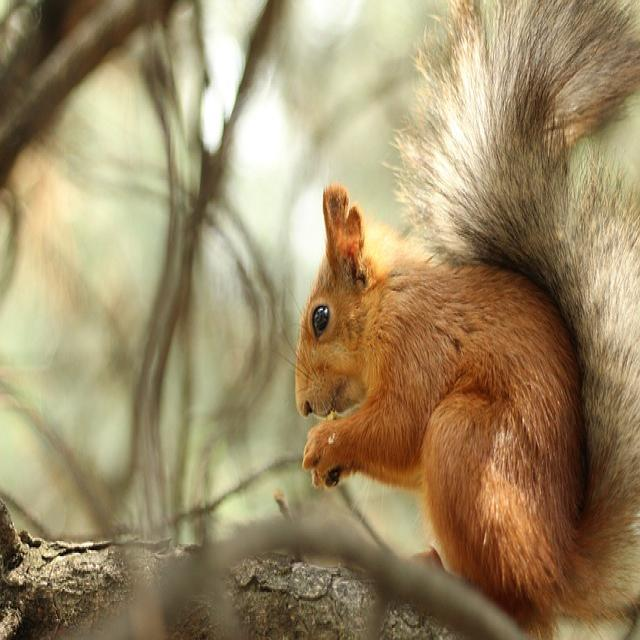Herbivorous: (294, 0, 640, 640)
